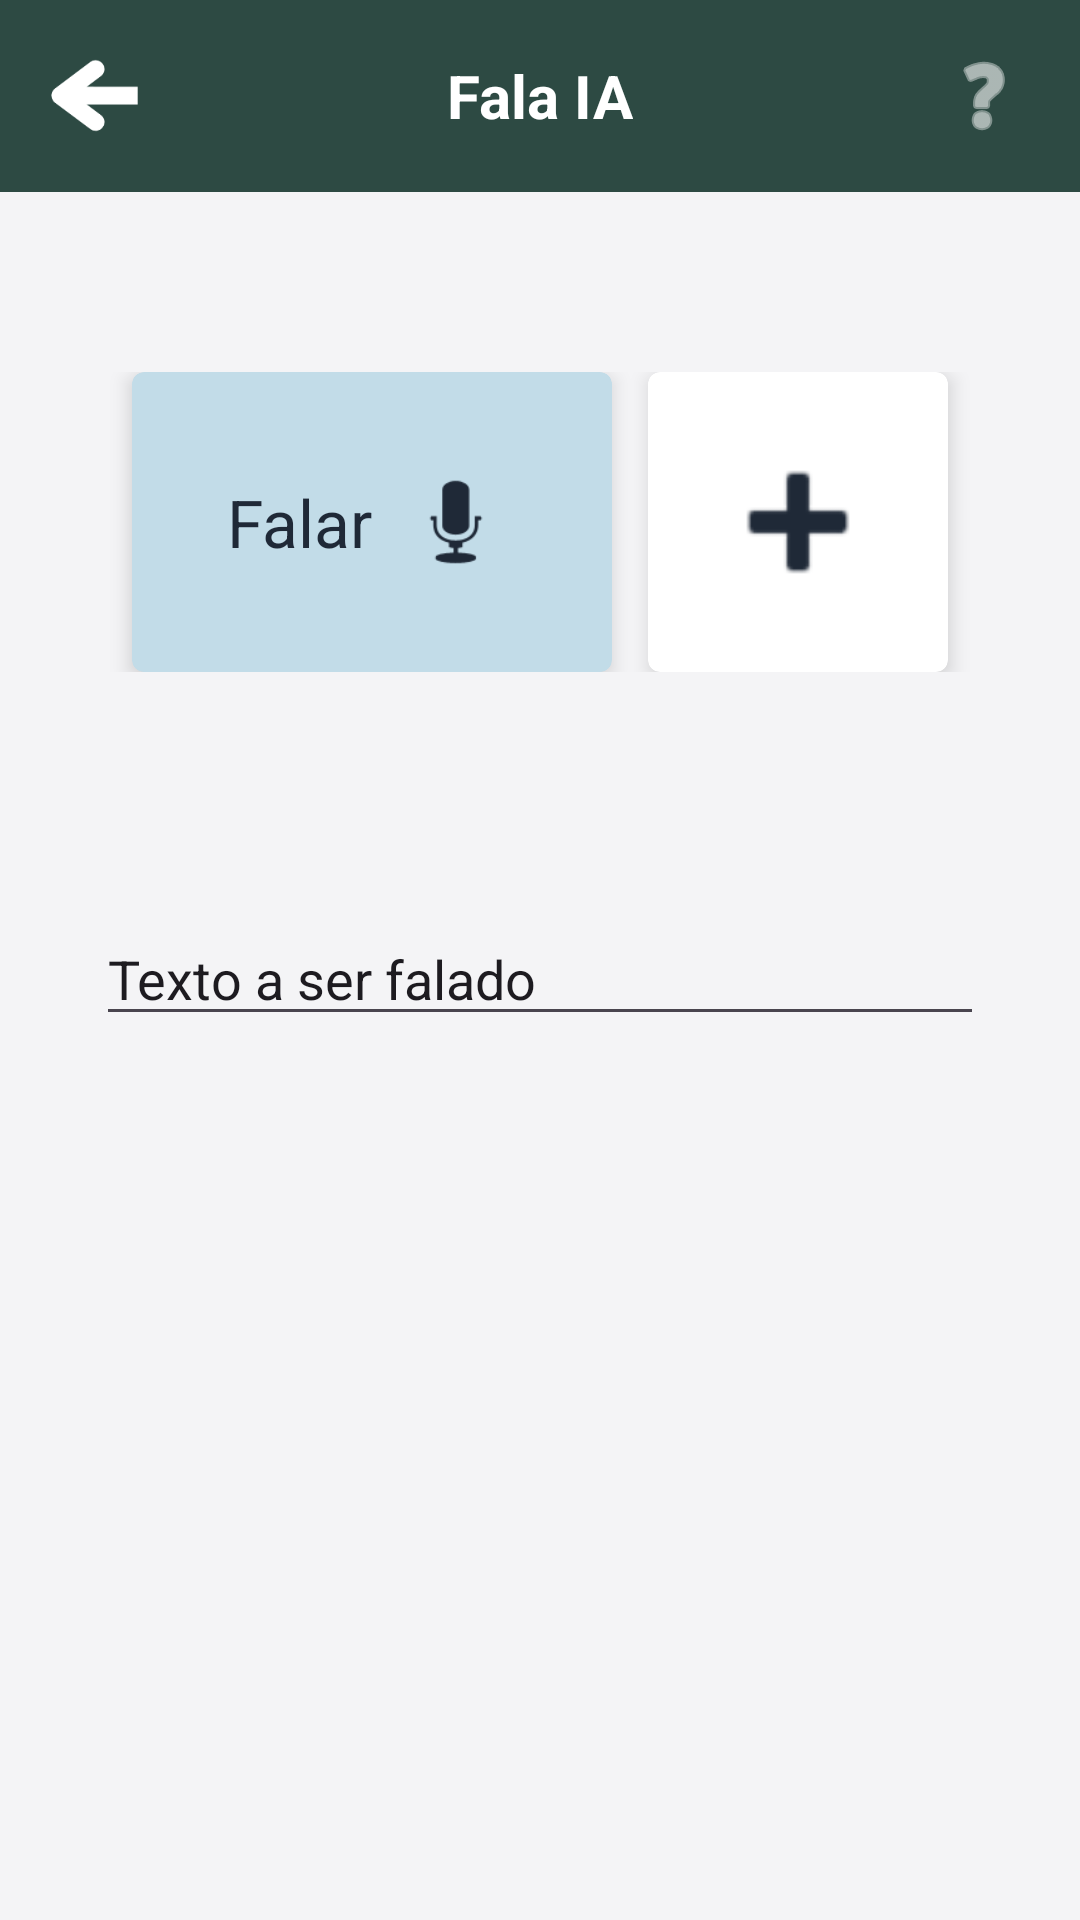

Point at icon controls on the screen. Image size 1080 x 1920, points as [x,y].
add: [798,522]
help: [984,96]
seta: [94,95]
speak now: [456,522]
